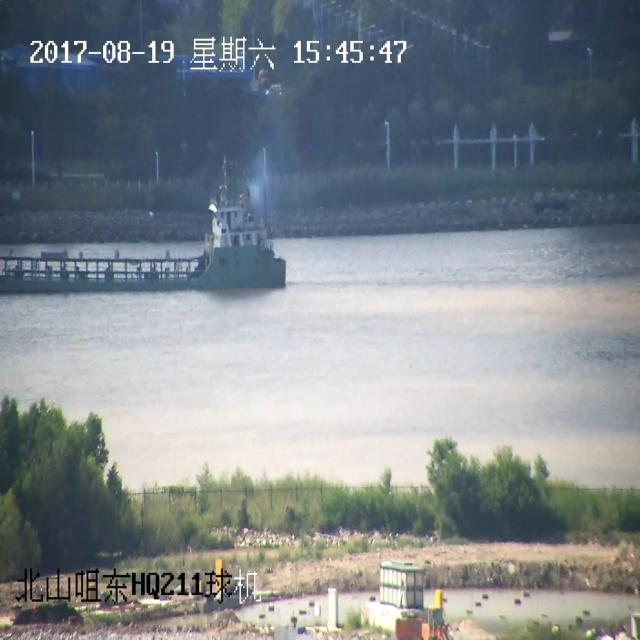houseboat: (13, 187, 301, 307)
